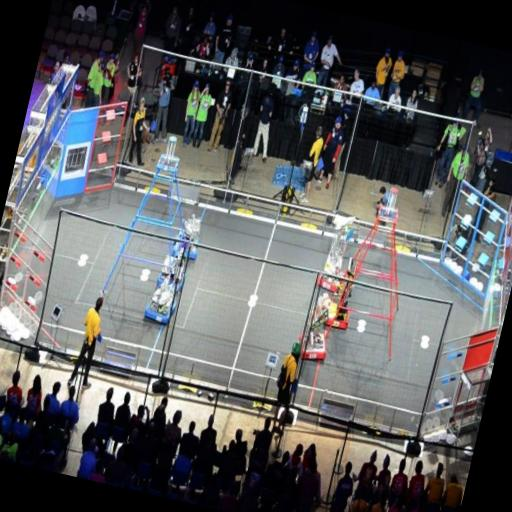robot: (304, 246, 362, 300), (301, 285, 361, 333), (138, 272, 182, 334), (166, 210, 210, 266), (290, 318, 338, 366), (148, 249, 194, 289)
